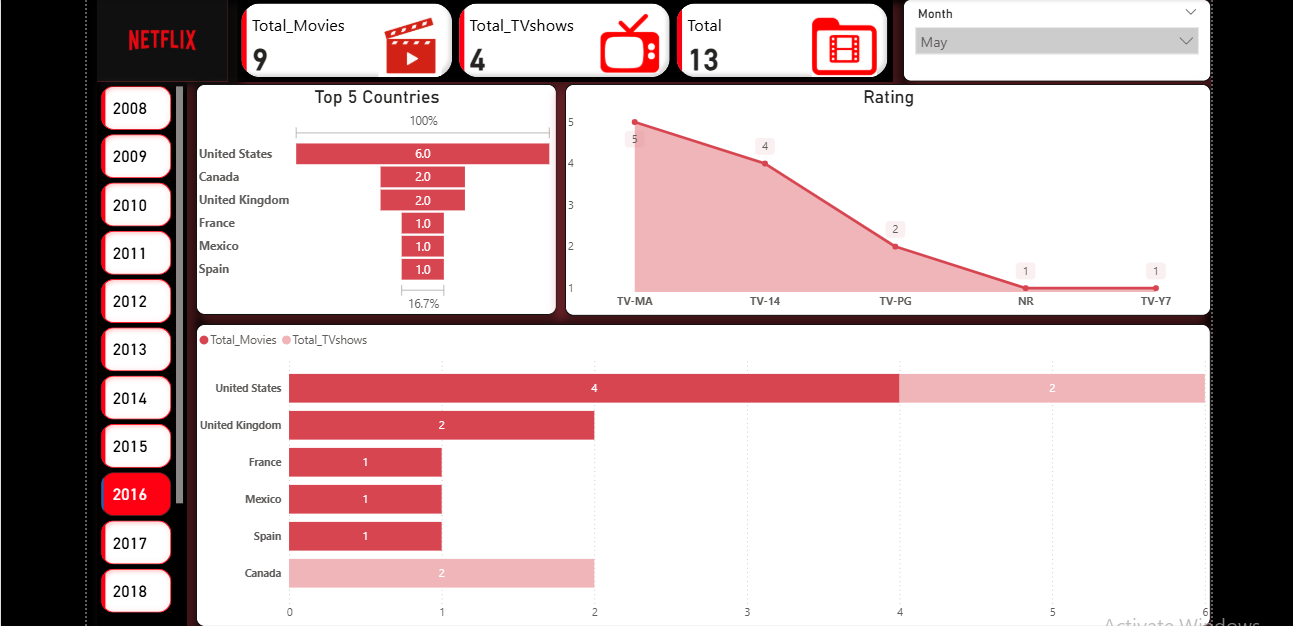

The page's visual inventory and layout, read from the dashboard file:
{"tool":"powerbi","page":{"name":"Page 2","canvas":[1280,720],"ordinal":1},"visuals":[{"type":"shape","box":[0,0,170.8,94.3],"z":0},{"type":"image","box":[11.5,0,149.2,94.3],"z":1000},{"type":"shape","box":[0,114.7,123.7,605.6],"z":2000},{"type":"advancedSlicerVisual","fields":{"Values":["netflix1.date_added.Variation.Date Hierarchy.Year"]},"box":[11.5,94.3,103.3,620.9],"z":3000},{"type":"cardVisual","fields":{"Data":["netflix1.Total_Movies","netflix1.Total_TVshows","netflix1.Total_Movies_shows"]},"box":[170.8,0,747.1,94.3],"z":4000},{"type":"slicer","fields":{"Values":["netflix1.date_added.Variation.Date Hierarchy.Month"]},"box":[929.4,0,350.6,94.3],"z":5000},{"type":"funnel","title":"Top 5 Countries","fields":{"Y":["netflix1.Total_Movies_shows"],"Category":["netflix1.country"]},"box":[123.7,96.9,410.5,262.6],"z":7001},{"type":"lineChart","title":"Rating","fields":{"Category":["netflix1.rating"],"Y":["netflix1.Total_Movies_shows"]},"box":[544.4,96.9,735.6,263.9],"z":7002},{"type":"barChart","title":"Top 5 Countries","fields":{"Category":["netflix1.country"],"Y":["netflix1.Total_Movies","netflix1.Total_TVshows"]},"box":[123.7,369.7,1156.3,345.5],"z":7003}]}

Visuals, with their boxes on the page's 1280x720 design canvas (x1, y1, x2, y2). These are canvas units, not pixel positions in the 1293x626 screenshot, which may show the page scaled, cropped or inside an application window:
shape: l=0, t=0, r=171, b=94
image: l=12, t=0, r=161, b=94
shape: l=0, t=115, r=124, b=720
advancedSlicerVisual - netflix1.date_added.Variation.Date Hierarchy.Year: l=12, t=94, r=115, b=715
cardVisual - netflix1.Total_Movies x netflix1.Total_TVshows: l=171, t=0, r=918, b=94
slicer - netflix1.date_added.Variation.Date Hierarchy.Month: l=929, t=0, r=1280, b=94
"Top 5 Countries" funnel: l=124, t=97, r=534, b=360
"Rating" lineChart: l=544, t=97, r=1280, b=361
"Top 5 Countries" barChart: l=124, t=370, r=1280, b=715
